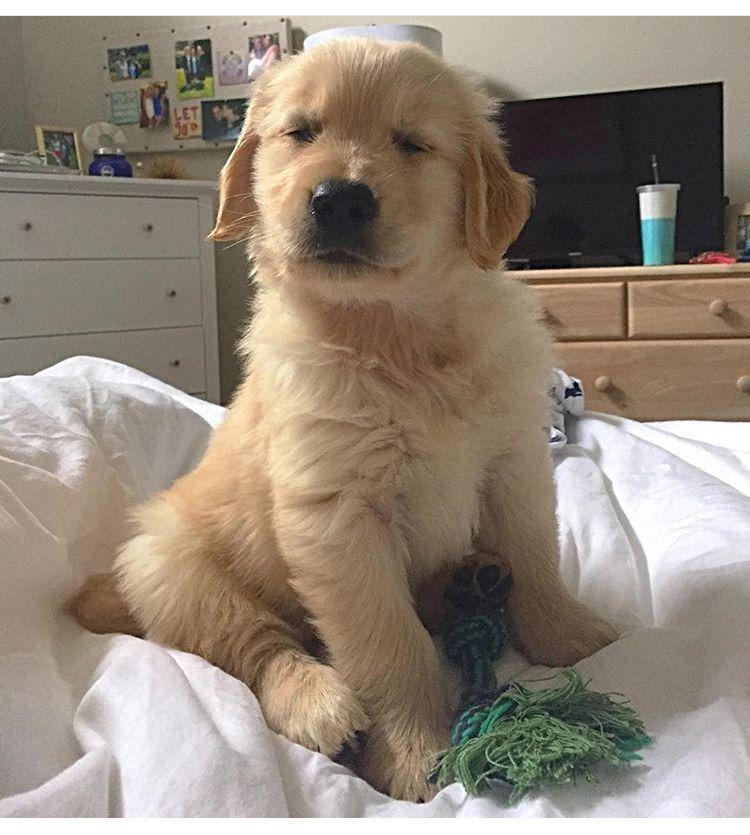puppy-dog: (63, 36, 619, 802)
